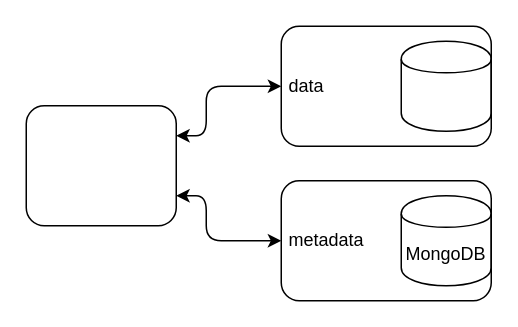
Some shapes in this 518 by 327 pixel diagram are drawn without their labels. The shapes that lost their labels are listed below. From the top down, each one's centre as x and y in pixels, then its label:
At (x=445, y=85): "MinIO".
At (x=100, y=165): "Node app".
